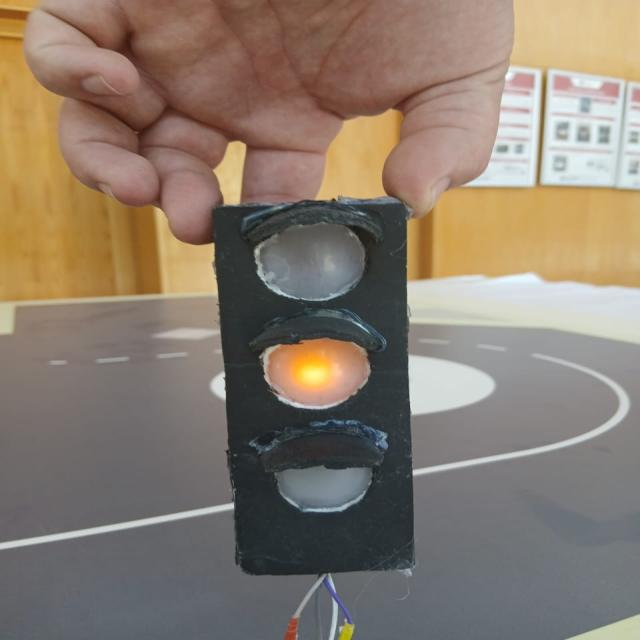trafic lights: (213, 198, 414, 575)
yellow: (261, 338, 370, 409)
